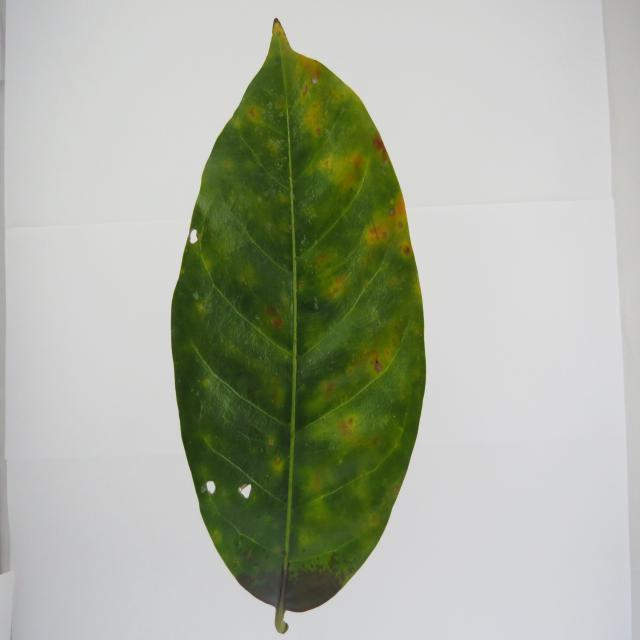DeficienciaNutricional-Magnesio: (171, 20, 425, 632)
